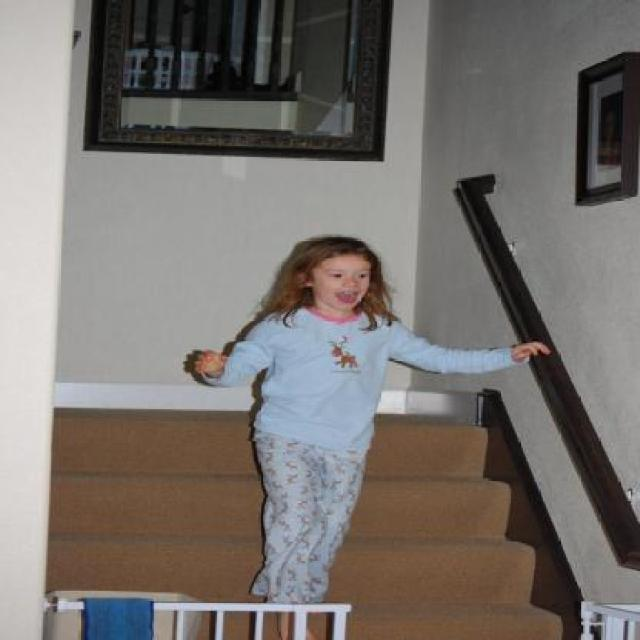stair: (44, 407, 564, 640)
